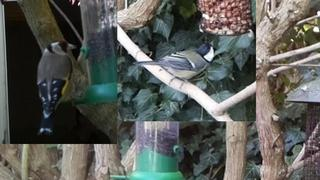goldfinch: (36, 40, 77, 135)
great tit: (132, 40, 216, 90)
